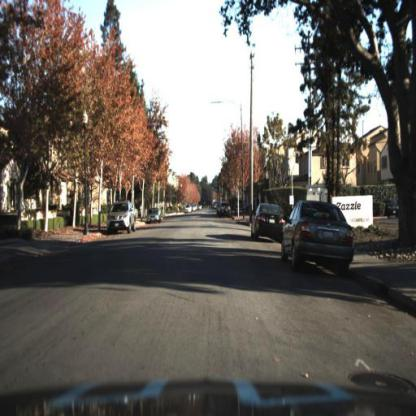car: (279, 195, 358, 273), (249, 202, 286, 242), (104, 197, 138, 236), (146, 206, 162, 224), (220, 201, 232, 218), (184, 203, 195, 219)
